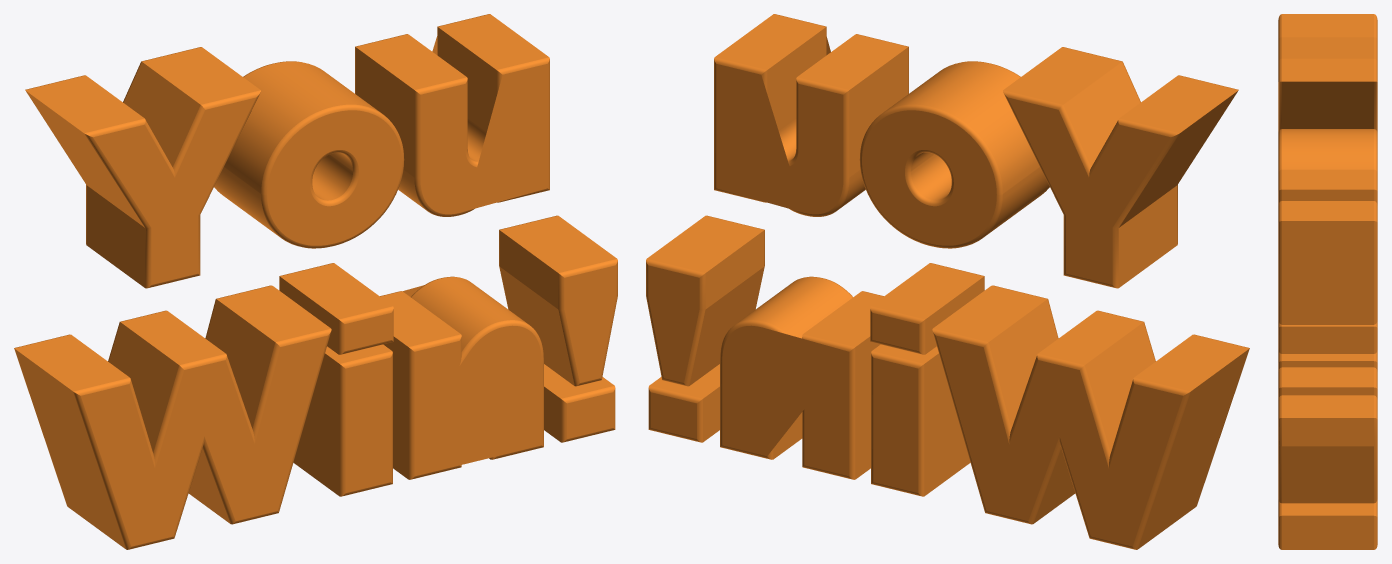
The model's file is You Win.fbx.
3 views of the same model, side by side, from view 1: azimuth 30°, elevation 25°; view 2: azimuth 150°, elevation 25°; view 3: azimuth 270°, elevation 25° (orthographic). The views are drawn at different scales.
Visible parts, largest first — view 1: Extrude_1, Extrude_2; view 2: Extrude_1, Extrude_2; view 3: Extrude_2, Extrude_1.
Boxes of the visible parts, box(x1,y1,x2,y2) form: Extrude_1: box(14, 215, 617, 549); Extrude_2: box(25, 14, 549, 288); Extrude_1: box(646, 215, 1249, 549); Extrude_2: box(714, 14, 1238, 288); Extrude_2: box(1278, 14, 1377, 324); Extrude_1: box(1278, 320, 1377, 549).
Size of the model in its own units: 427 by 320 by 86.
